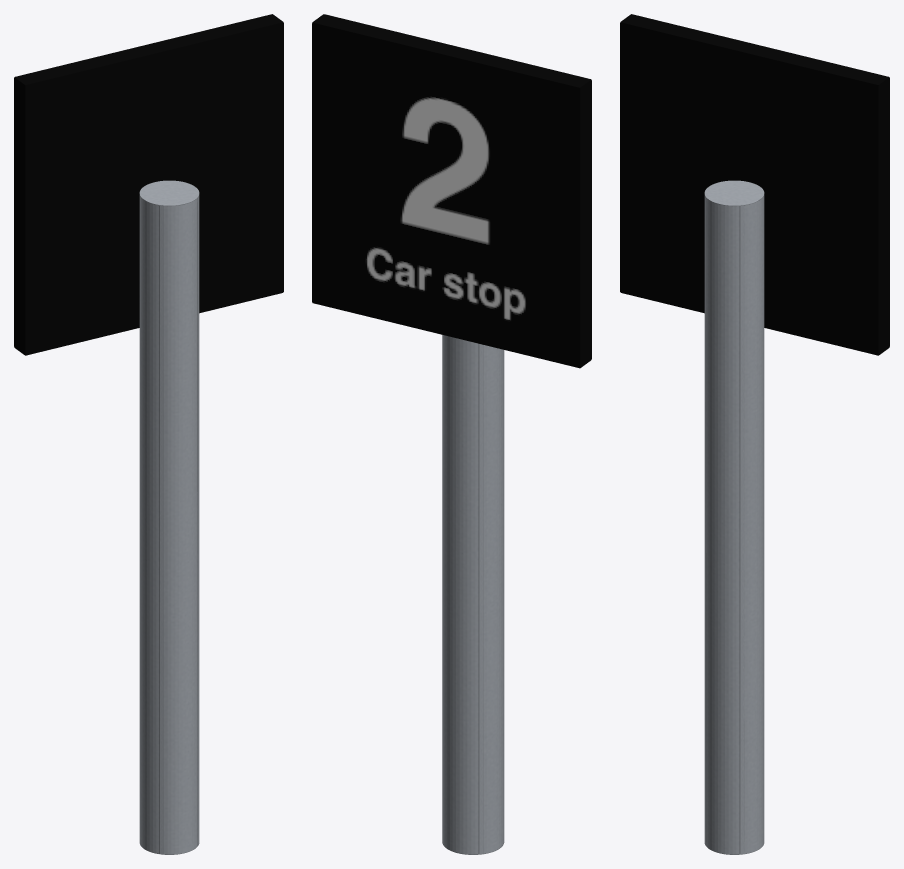
Rendered from 2mark.obj.
3 renders of one model, left to right at view 1: azimuth 30°, elevation 25°; view 2: azimuth 150°, elevation 25°; view 3: azimuth 330°, elevation 25°, orthographic. The views are drawn at different scales.
Parts seen in each view (by area): view 1: cube, cylinder; view 2: cube, cylinder; view 3: cube, cylinder.
Boxes of the visible parts, bbox=[...] form: cube: bbox=[14, 14, 283, 355]; cylinder: bbox=[139, 180, 199, 854]; cube: bbox=[312, 14, 591, 368]; cylinder: bbox=[442, 335, 504, 854]; cube: bbox=[620, 14, 889, 355]; cylinder: bbox=[704, 180, 764, 854].
Size of the model in its own units: 0.625 by 1.8 by 0.1719.
Materials: 1 (1 with a texture image).
